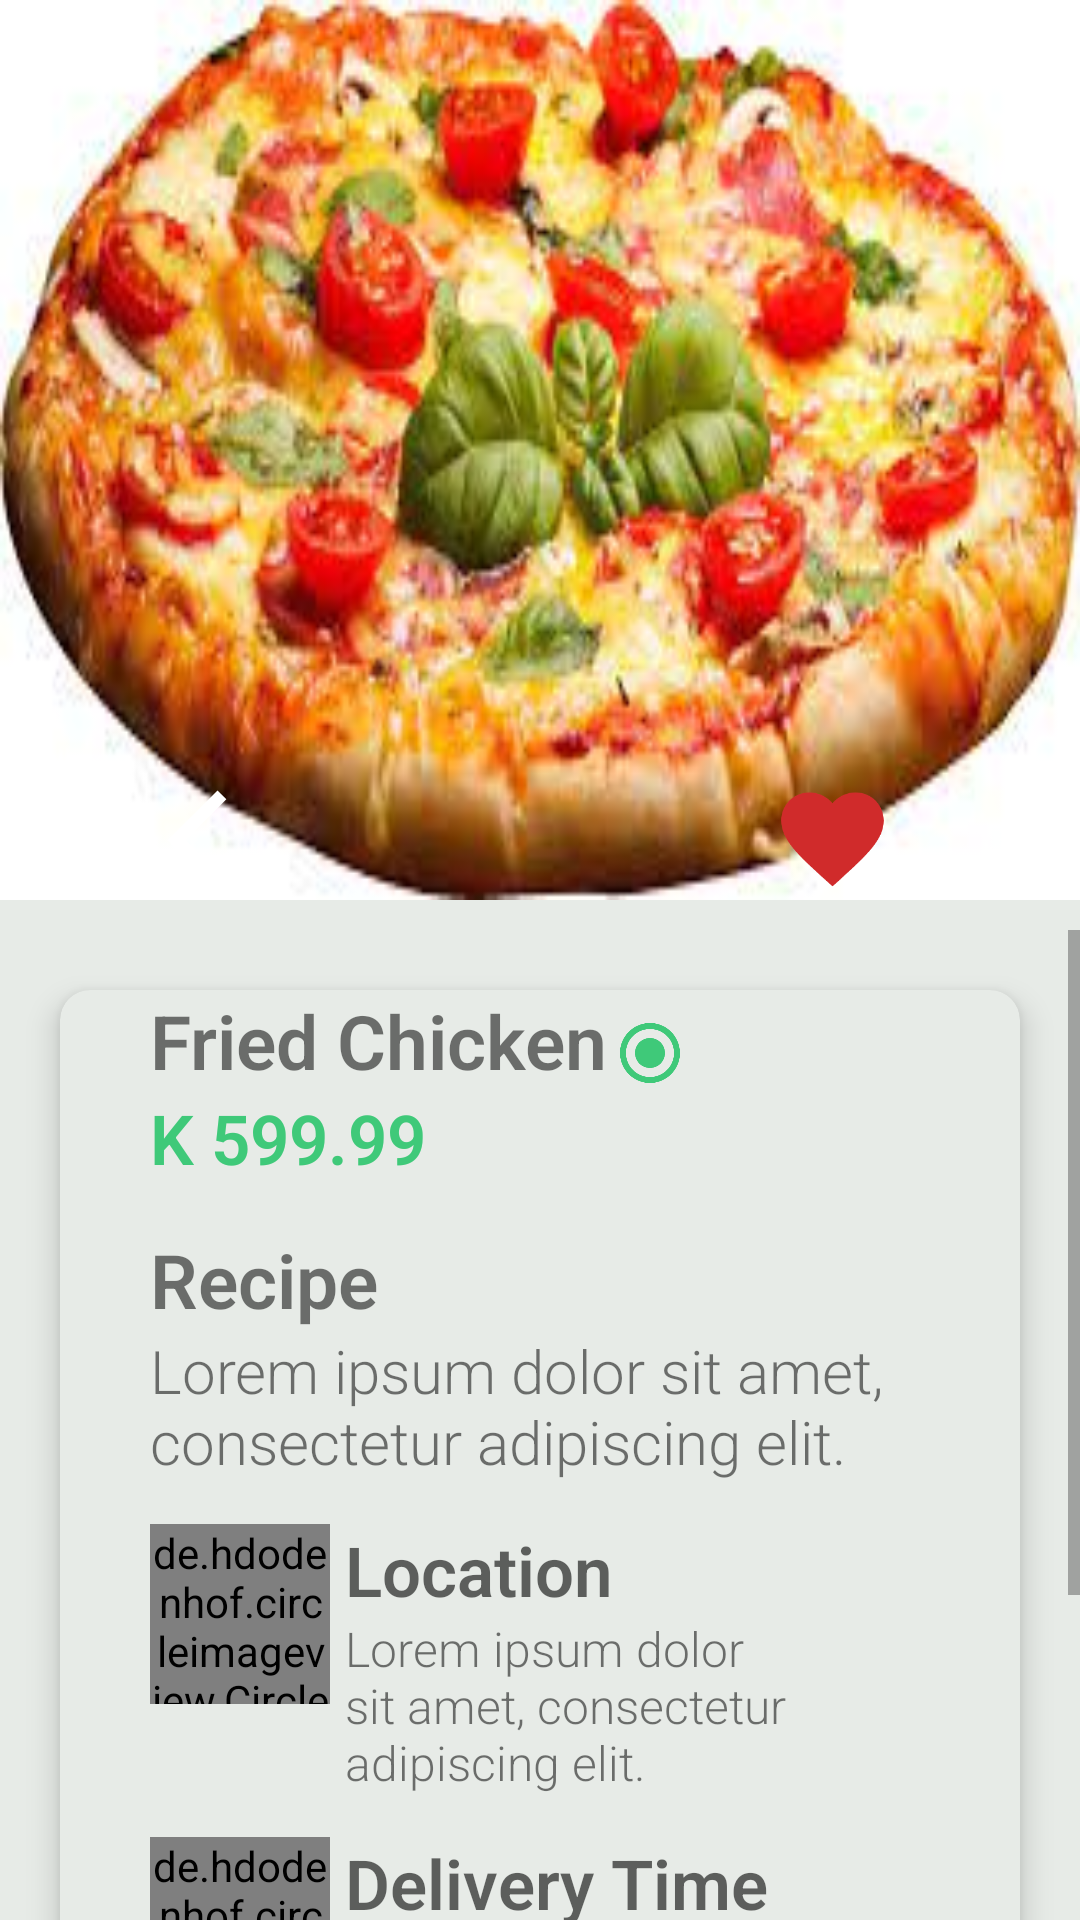

Point at icon controls on the screen. Image size 1080x1920, points as (x,y).
radio checked: (650,1053)
